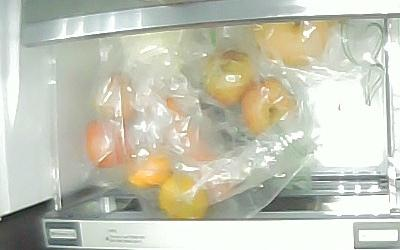carrot_vinyl: (163, 98, 243, 203)
pear_vinyl: (254, 20, 335, 68)
prune_vinyl: (243, 77, 298, 139), (200, 50, 254, 104), (92, 73, 140, 120)
tangerine_vinyl: (157, 174, 209, 221), (126, 149, 173, 190)
tomato_vinyl: (85, 119, 134, 168)
